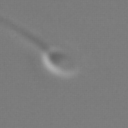normal: (1, 12, 47, 50)
